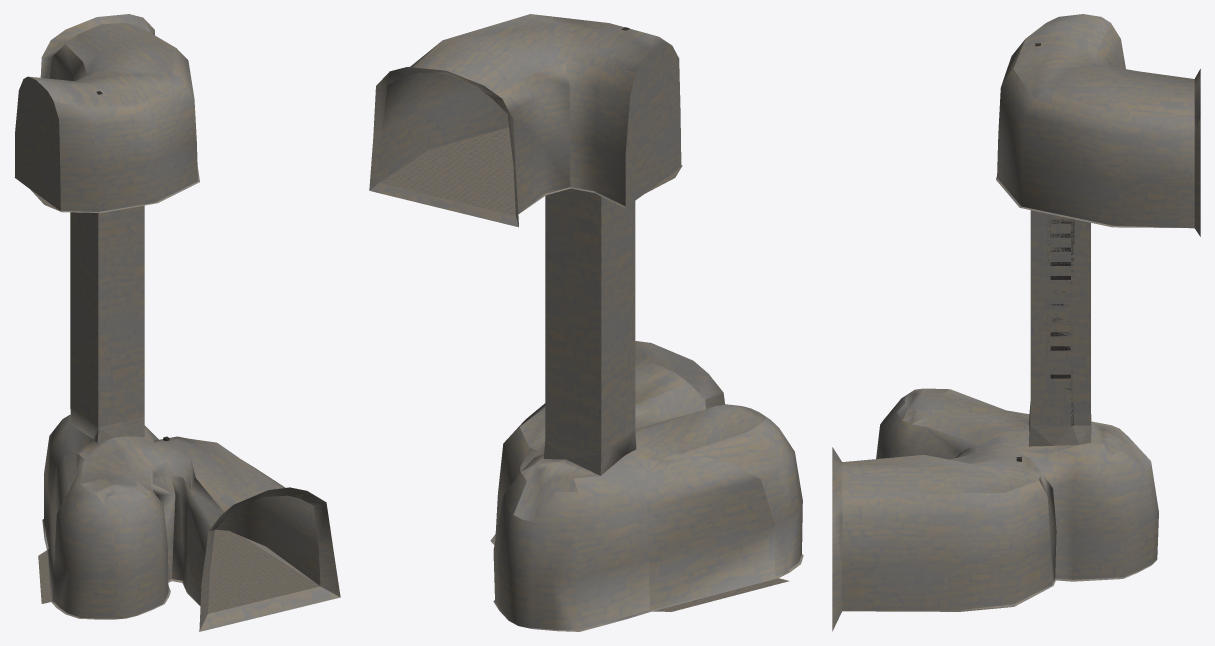
The model's file is R_Tun10.glb.
3 renders of one model, left to right at view 1: azimuth 30°, elevation 25°; view 2: azimuth 150°, elevation 25°; view 3: azimuth 270°, elevation 25°, orthographic. The views are drawn at different scales.
Visible parts, largest first — view 1: _R_Tun10; view 2: _R_Tun10; view 3: _R_Tun10.
Part boxes in pixels (x1,y1,x2,y2): _R_Tun10: (14,14,340,631); _R_Tun10: (369,14,803,631); _R_Tun10: (832,14,1200,631).
Size of the model in its own units: 8.62 by 16.24 by 10.46.
Materials: 5 (5 with a texture image).
